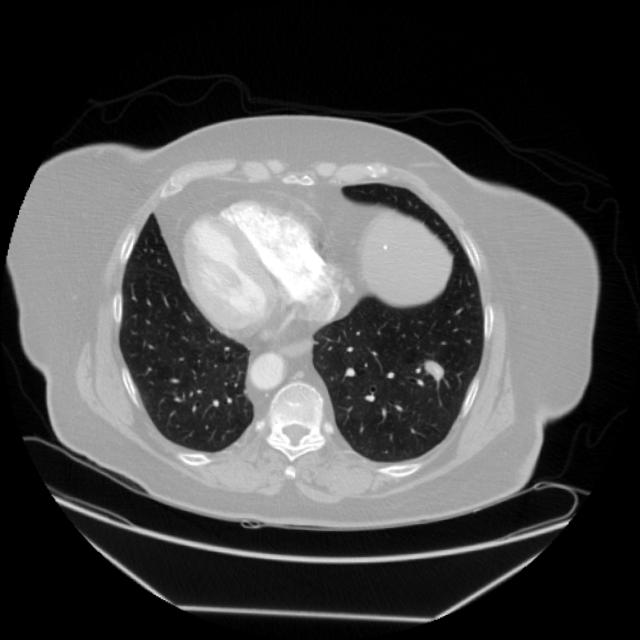nodule: (412, 345, 455, 388)
